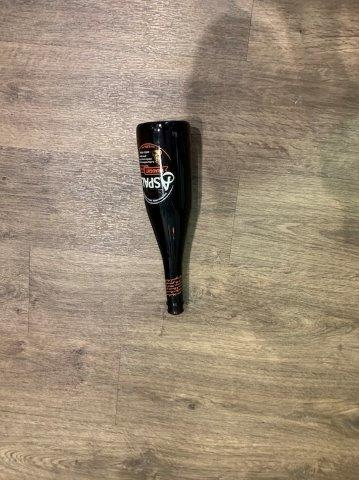botolkaca: (137, 120, 192, 315)
